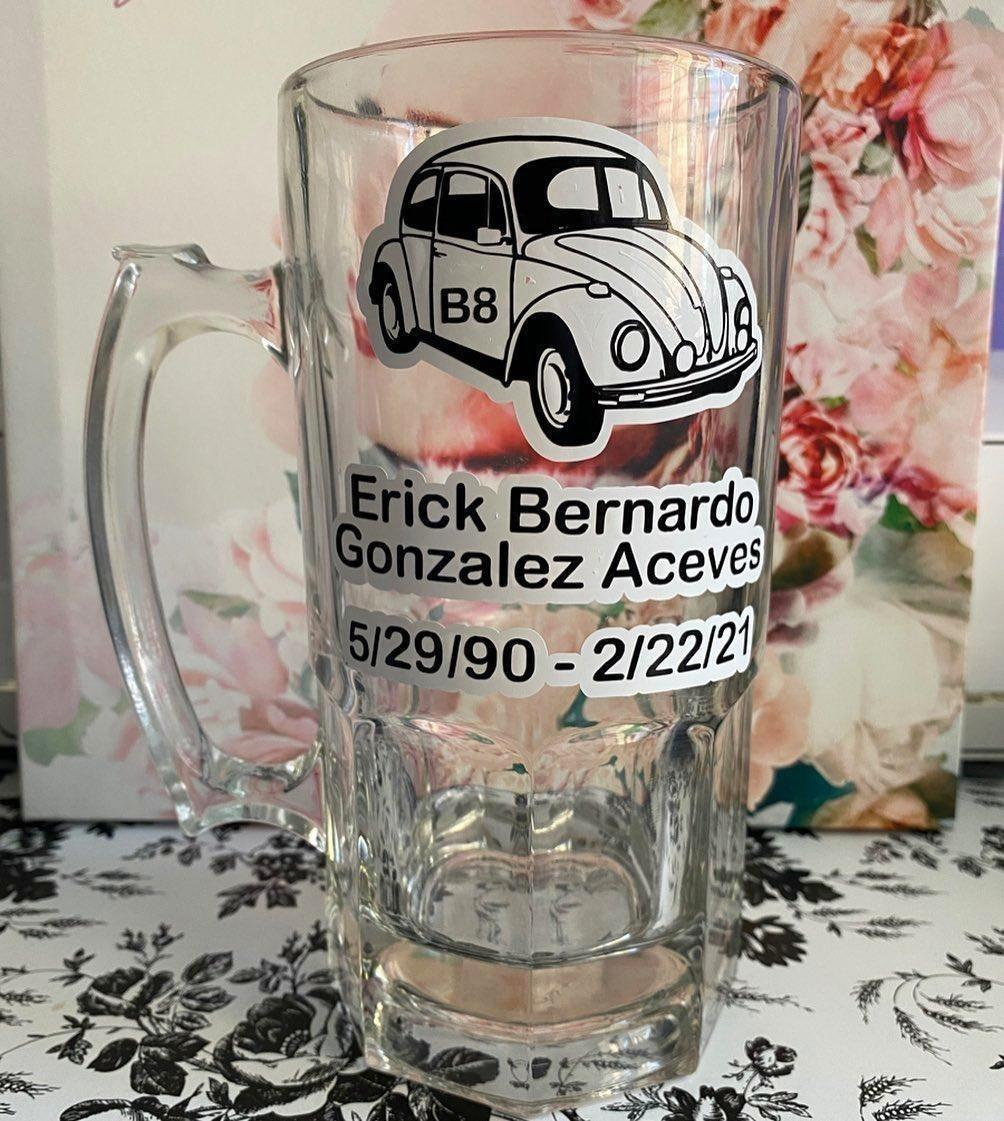glass-mug: (71, 11, 816, 1121)
